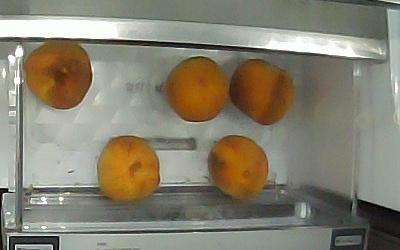peach: (25, 42, 92, 109), (230, 59, 294, 125), (98, 136, 161, 200), (166, 57, 228, 122), (208, 135, 268, 200)
